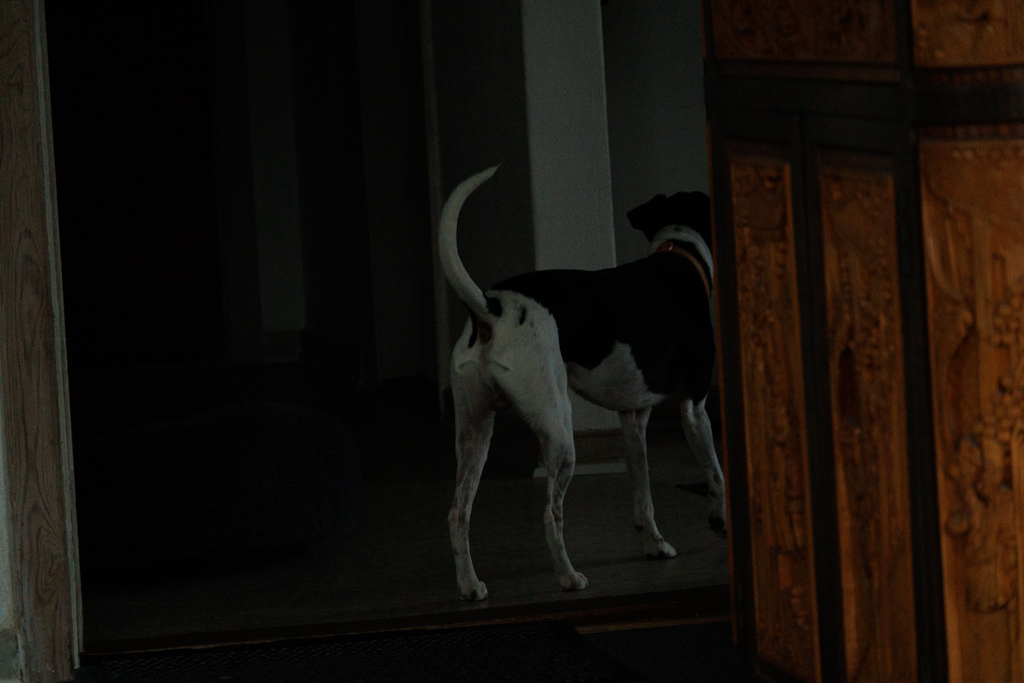Dog: (425, 158, 729, 606)
